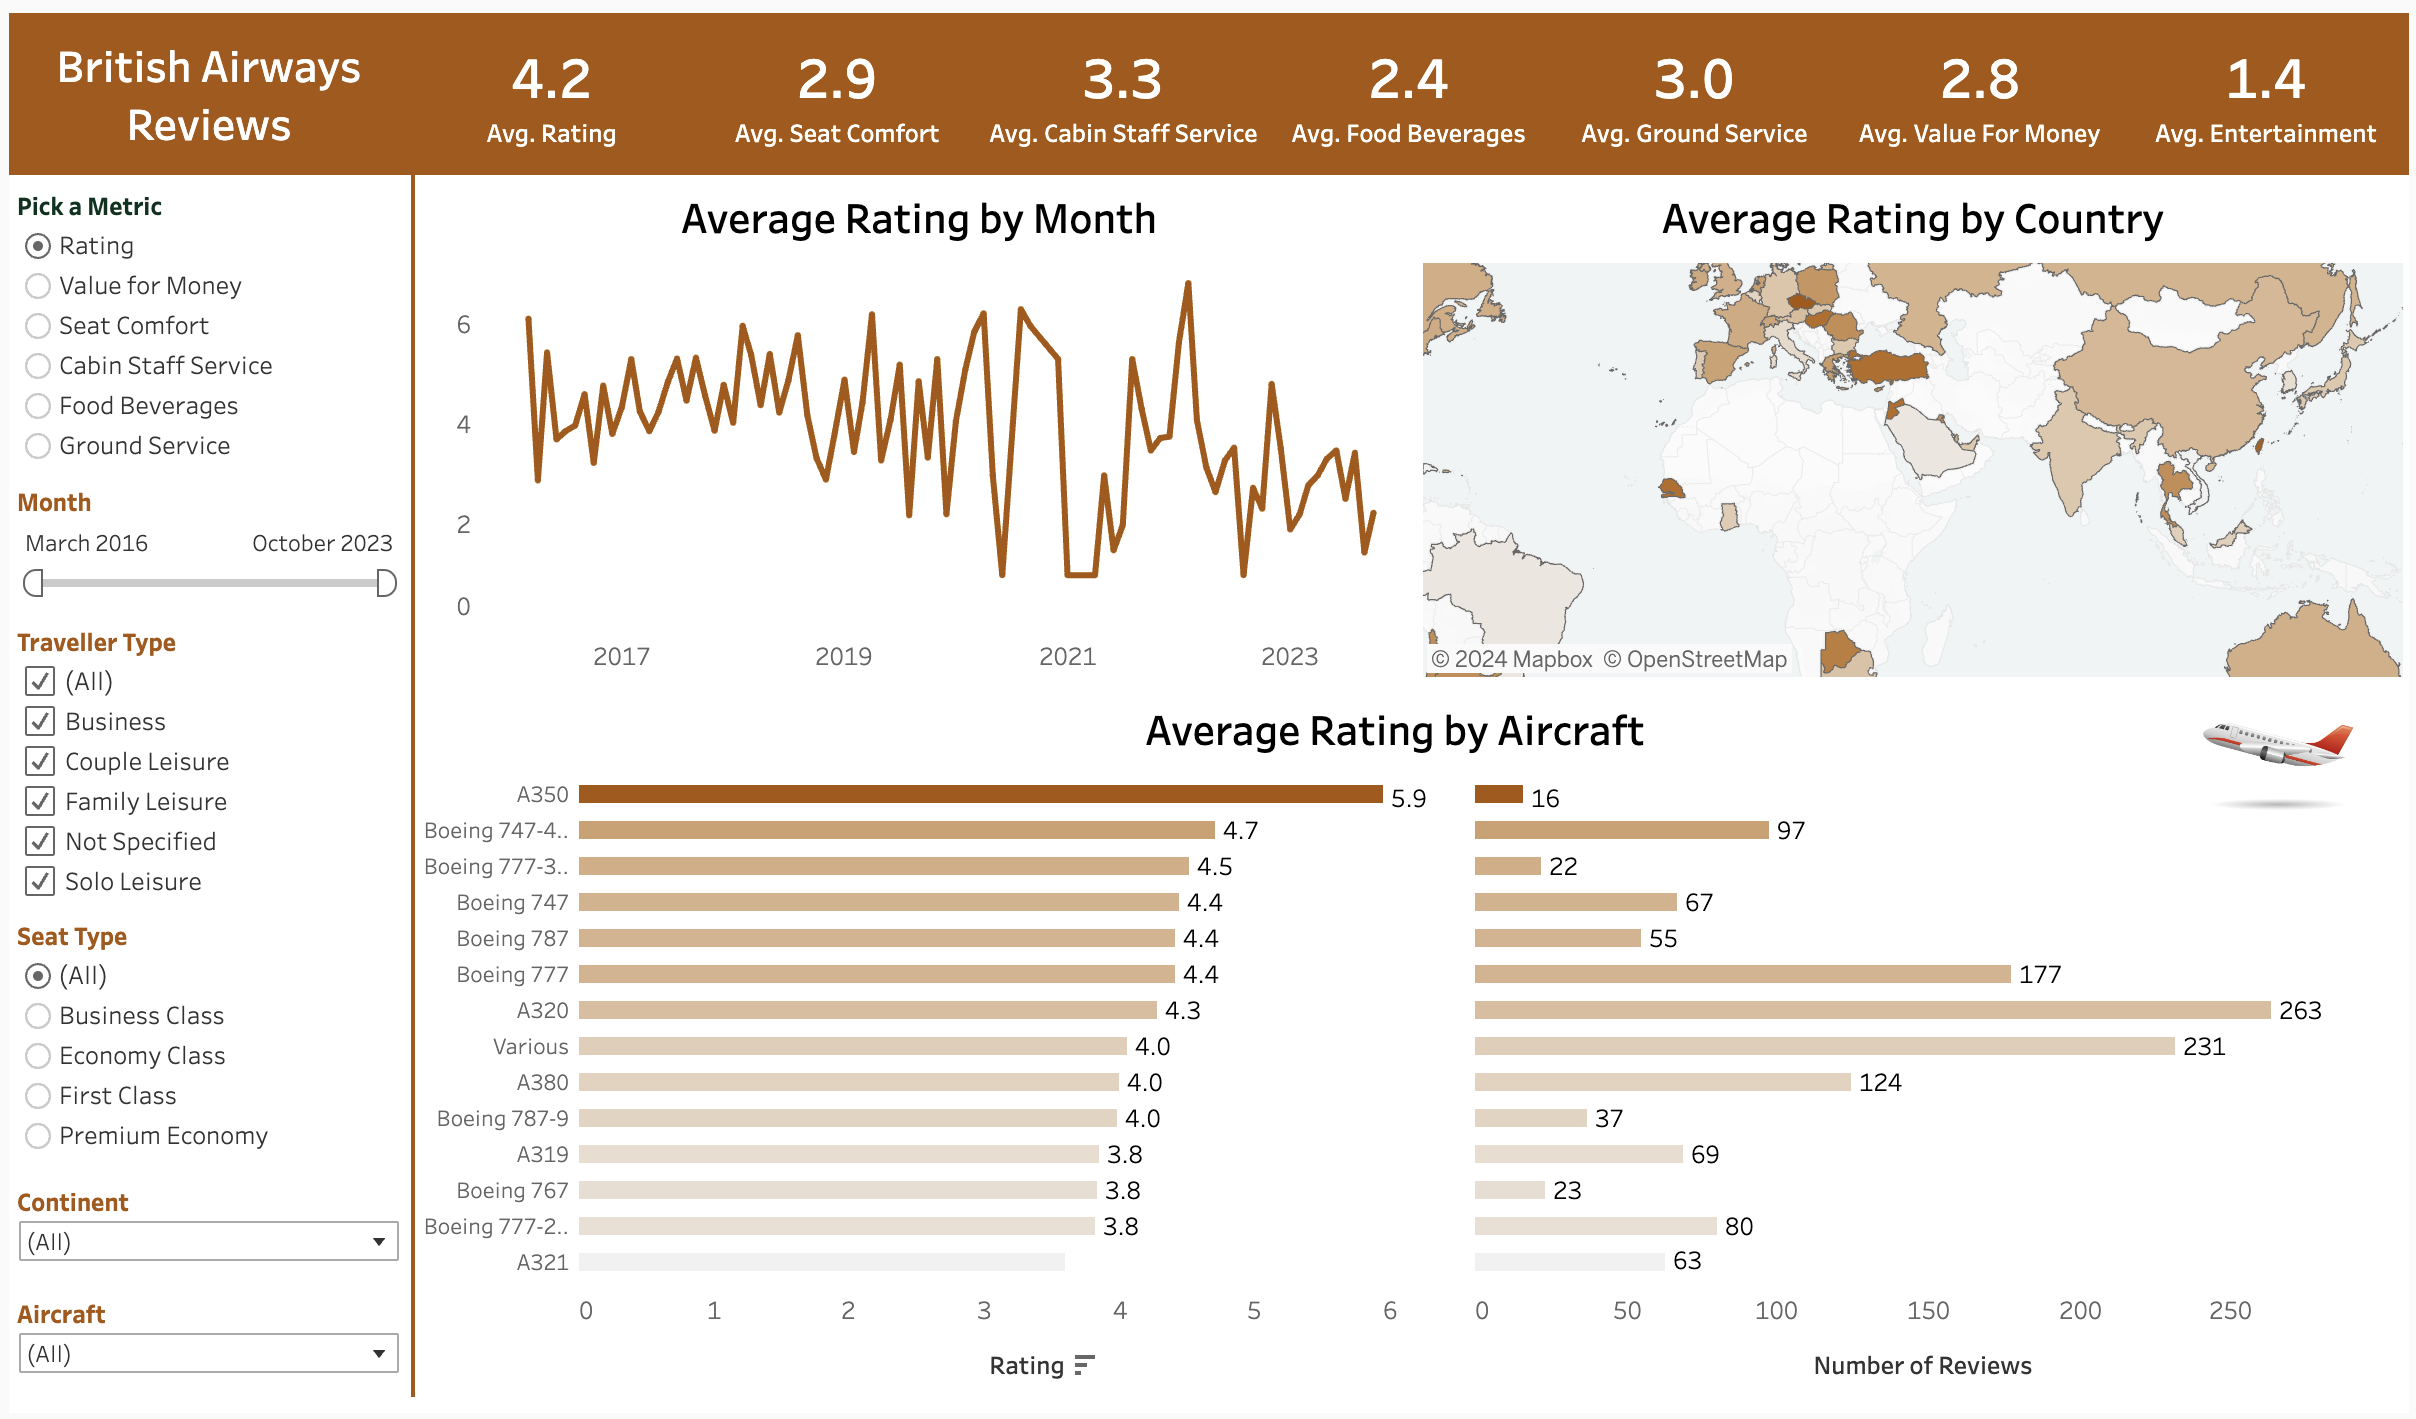

The page's visual inventory and layout, read from the dashboard file:
{"tool":"tableau","page":{"name":"British Airways Dashboard","canvas":[1200,700],"ordinal":0},"visuals":[{"type":"text","box":[0,0,200,81.4]},{"type":"worksheet","title":"Summary","mark":"Automatic","box":[200,0,1000,81.4]},{"type":"blank","box":[201,81.4,2,610.5]},{"type":"worksheet","title":"Avg_Month","mark":"Automatic","rows":["Calculation_877920492046573568"],"cols":["date"],"box":[205,82,500,250]},{"type":"worksheet","title":"Map","mark":"Multipolygon","box":[707,82,490,250]},{"type":"parameter","param":"[Parameters].[Parameter 1]","box":[0,83,200,147.7]},{"type":"filter","title":"Map","param":"[federated.19agkth13t1gr110wdb391sf7m5a].[tmn:date:qk]","box":[0,230.7,200,70]},{"type":"filter","title":"Map","param":"[federated.19agkth13t1gr110wdb391sf7m5a].[none:Calculation_877920492125597700:nk","box":[0,300.7,200,147.7]},{"type":"worksheet","title":"Avg_Aircraft","mark":"Automatic","cols":["Calculation_877920492046573568","ba_reviews.csv_722E1F2C983F409084C6A92198EDAFC5"],"box":[205,338,995,352]},{"type":"image","param":"Image/airplane-png-27947.png","box":[1094,340,83,68]},{"type":"filter","title":"Map","param":"[federated.19agkth13t1gr110wdb391sf7m5a].[none:seat_type:nk]","box":[0,448.5,200,133]},{"type":"filter","title":"Map","param":"[federated.19agkth13t1gr110wdb391sf7m5a].[none:Continent:nk]","box":[0,581.5,200,56]},{"type":"filter","title":"Map","param":"[federated.19agkth13t1gr110wdb391sf7m5a].[Aircraft (group)]","box":[0,637.5,200,56]}]}

Visuals, with their boxes in screenshot pixels (x1, y1, x2, y2), scaled from the page's 1200x700 canvas onto the 2416x1419 screenshot:
text: 0:0:403:165
"Summary" worksheet: 403:0:2415:165
blank: 405:165:409:1403
"Avg_Month" worksheet: 413:166:1419:673
"Map" worksheet (Multipolygon marks): 1423:166:2410:673
parameter: 0:168:403:468
"Map" filter: 0:468:403:610
"Map" filter: 0:610:403:909
"Avg_Aircraft" worksheet: 413:685:2415:1399
image: 2203:689:2370:827
"Map" filter: 0:909:403:1179
"Map" filter: 0:1179:403:1292
"Map" filter: 0:1292:403:1406
